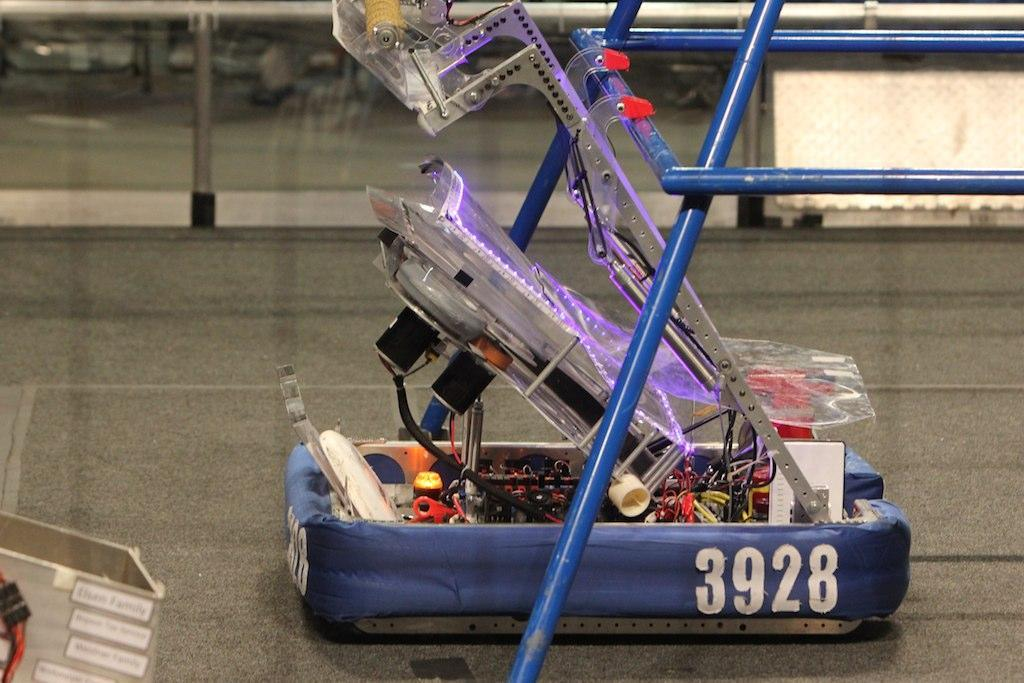robot: (264, 0, 921, 646)
